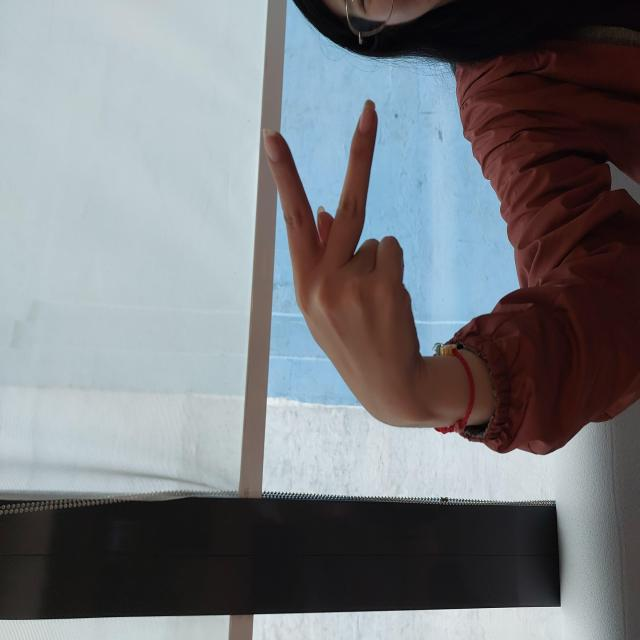K: (209, 261, 538, 421)
